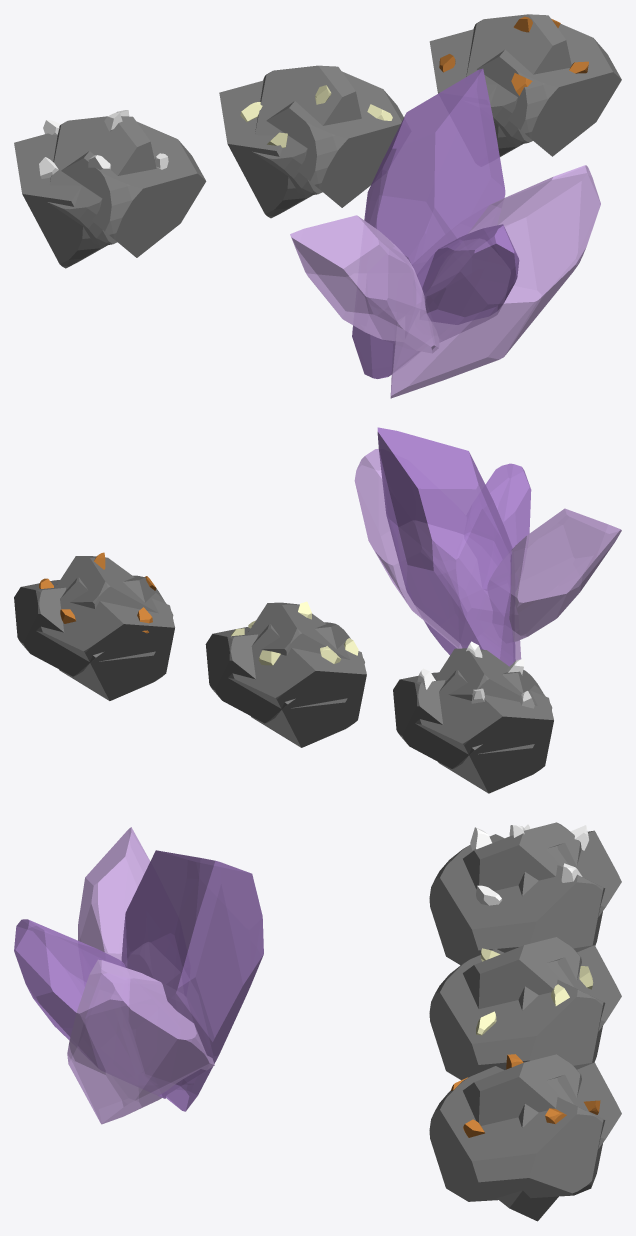
File: IronSulfurBronzeCrystal.fbx
3 renders of one model, top to bottom at view 1: azimuth 30°, elevation 25°; view 2: azimuth 150°, elevation 25°; view 3: azimuth 270°, elevation 25°, orthographic. The views are drawn at different scales.
Parts seen in each view (by area): view 1: Sphere.030, Sphere.003, Sphere.009, Sphere.019; view 2: Sphere.030, Sphere.003, Sphere.009, Sphere.019; view 3: Sphere.030, Sphere.019, Sphere.003, Sphere.009.
Part boxes in pixels (x1=…): Sphere.030: x1=290, y1=68, x2=600, y2=398; Sphere.003: x1=14, y1=110, x2=206, y2=268; Sphere.009: x1=219, y1=65, x2=403, y2=218; Sphere.019: x1=429, y1=14, x2=621, y2=156; Sphere.030: x1=354, y1=427, x2=621, y2=666; Sphere.003: x1=393, y1=641, x2=553, y2=793; Sphere.009: x1=205, y1=601, x2=366, y2=747; Sphere.019: x1=14, y1=552, x2=174, y2=700; Sphere.030: x1=14, y1=827, x2=263, y2=1124; Sphere.019: x1=429, y1=1054, x2=621, y2=1221; Sphere.003: x1=429, y1=822, x2=621, y2=965; Sphere.009: x1=429, y1=937, x2=621, y2=1080.
Bounding box in the file's own units: 981 × 440 × 767.
